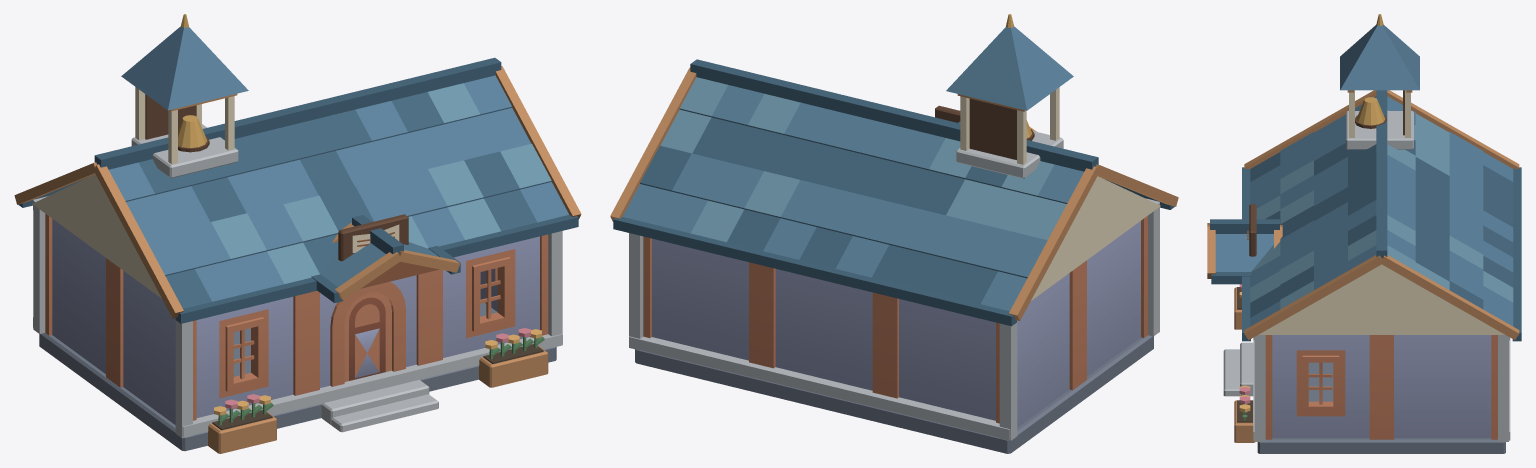
Rendered from school.glb.
3 views of the same model, side by side, from view 1: azimuth 30°, elevation 25°; view 2: azimuth 150°, elevation 25°; view 3: azimuth 270°, elevation 25° (orthographic). The views are drawn at different scales.
Parts seen in each view (by area): view 1: school_建筑共用调色板, school_fantasy-town-kit 调色板; view 2: school_建筑共用调色板, school_fantasy-town-kit 调色板; view 3: school_建筑共用调色板, school_fantasy-town-kit 调色板.
Part boxes in pixels (left/top/right/bottom): school_建筑共用调色板: left=14, top=14, right=581, bottom=453; school_fantasy-town-kit 调色板: left=45, top=214, right=548, bottom=424; school_建筑共用调色板: left=610, top=14, right=1178, bottom=453; school_fantasy-town-kit 调色板: left=643, top=216, right=1147, bottom=427; school_建筑共用调色板: left=1207, top=14, right=1521, bottom=453; school_fantasy-town-kit 调色板: left=1265, top=335, right=1497, bottom=439.
Size of the model in its own units: 6.59 by 5.69 by 5.17.
2 materials, 2 textured.
